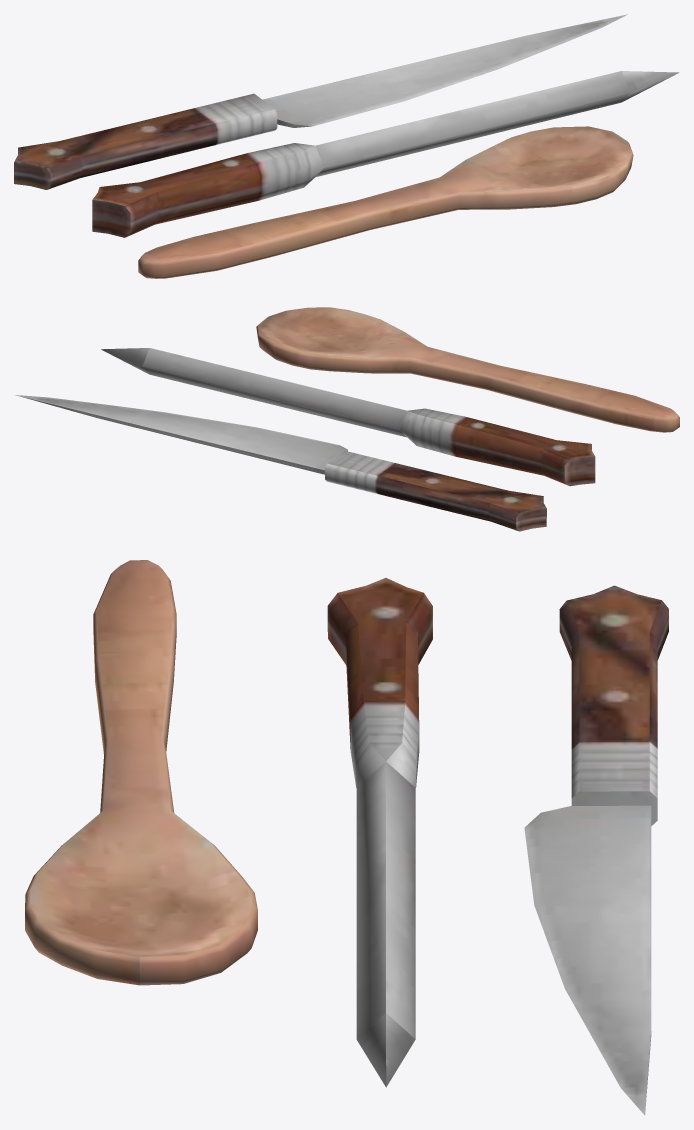
File: obj_medieval_cutlery.glb
3 views of the same model, one above another, from view 1: azimuth 30°, elevation 25°; view 2: azimuth 150°, elevation 25°; view 3: azimuth 270°, elevation 25° (orthographic). The views are drawn at different scales.
Parts seen in each view (by area): view 1: Cutlery_LP_01 - Default_0; view 2: Cutlery_LP_01 - Default_0; view 3: Cutlery_LP_01 - Default_0.
Part boxes in pixels (bbox=[...]): Cutlery_LP_01 - Default_0: bbox=[14, 14, 679, 278]; Cutlery_LP_01 - Default_0: bbox=[15, 307, 679, 531]; Cutlery_LP_01 - Default_0: bbox=[25, 560, 668, 1115].
Bounding box in the file's own units: 0.25 × 0.0145 × 0.1298.
Materials: 1 (1 with a texture image).
